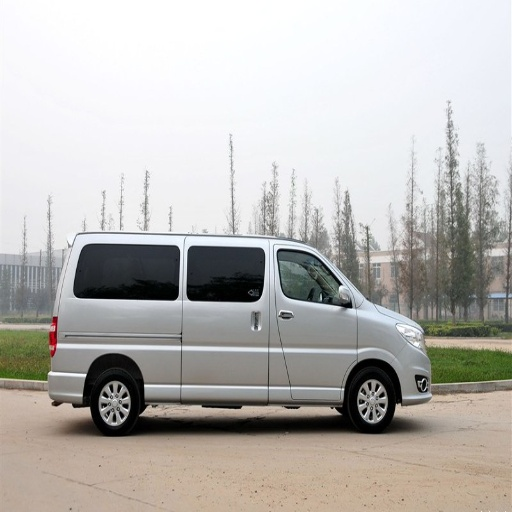back_right_door: (215, 244, 274, 391), (116, 246, 174, 301)
front_right_door: (269, 245, 355, 391)
trunk: (52, 300, 231, 399)
